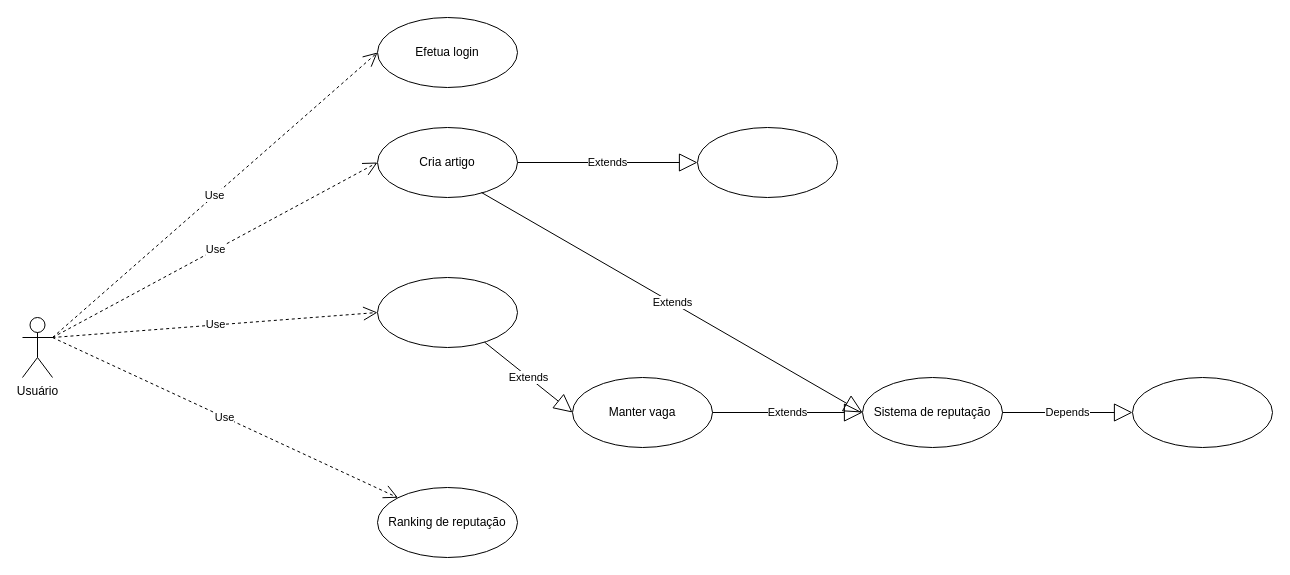
This 1290x575 diagram has some shape labels left out. The shapes that lost their labels are listed below. From the top down, each one's centre as x and y in pixels, then its label:
the point at 767,162: Manter artigo
the point at 447,312: Publica vaga
the point at 1202,412: Sistema de karma do reddit
